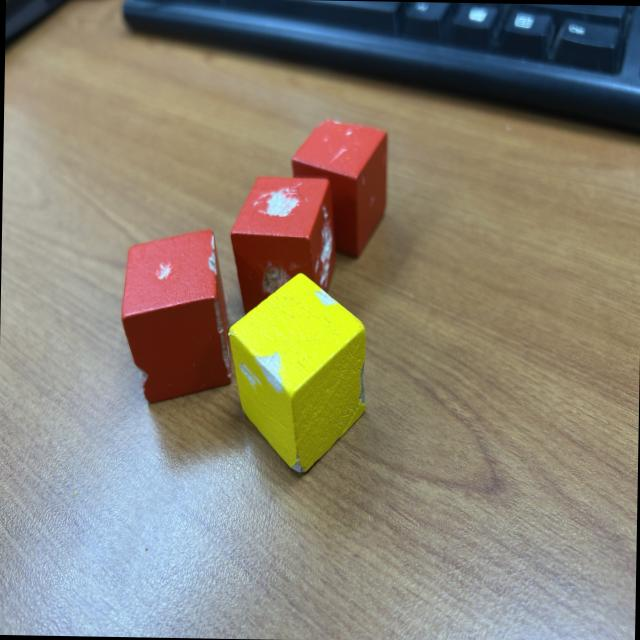broken: (224, 271, 369, 477), (118, 227, 235, 406), (229, 175, 337, 316), (290, 118, 388, 262)
